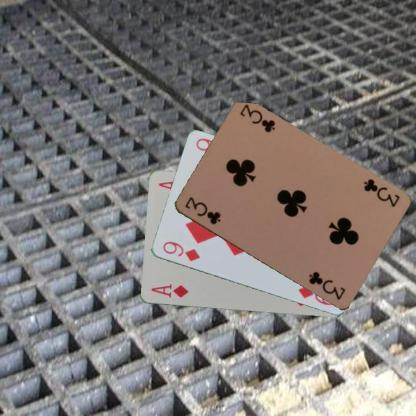3c: (182, 194, 222, 227), (361, 176, 401, 209)
9d: (160, 239, 201, 263)
Ad: (148, 282, 190, 300)
